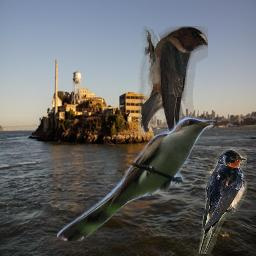Cuckoo: (57, 116, 216, 241)
Swallow: (138, 26, 208, 140), (197, 148, 247, 254)
